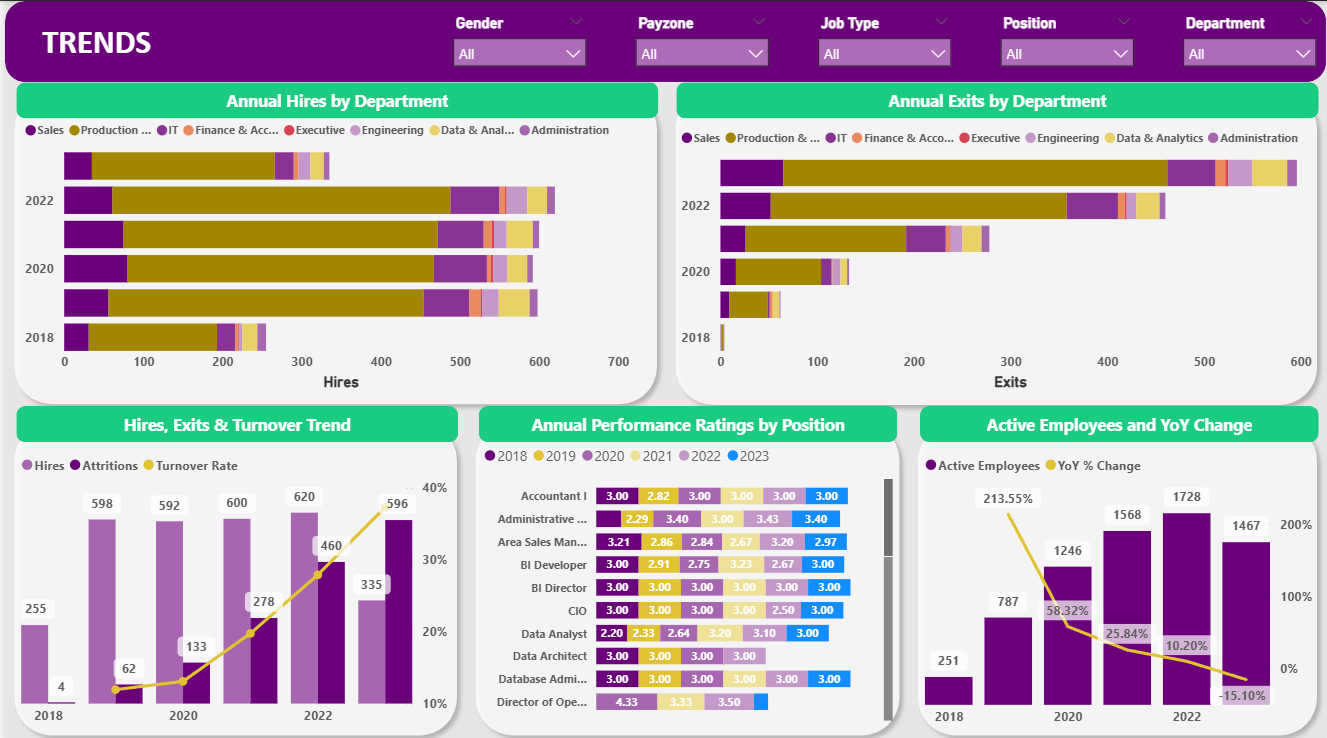

This screenshot's page, from the dashboard's own definition file:
{"tool":"powerbi","page":{"name":"Trends","canvas":[1280,720],"ordinal":2},"visuals":[{"type":"shape","box":[640.5,78.5,639.3,321.5],"z":0},{"type":"shape","box":[875.2,399.5,404.3,320.8],"z":1000},{"type":"shape","box":[0,399.5,446.7,320.8],"z":2000},{"type":"shape","box":[0,78.7,640.4,320.8],"z":3000},{"type":"lineClusteredColumnComboChart","fields":{"Category":["dim_date.Year"],"Y":["_Measures.Active Employees Rolling by Year"],"Y2":["_Measures.Active Employees YoY % Change"]},"box":[886.1,429.7,386.1,282],"z":4000},{"type":"lineClusteredColumnComboChart","fields":{"Category":["dim_date.Year"],"Y2":["_Measures.Turnover Rate by Year"],"Y":["_Measures.Hires by Year","_Measures.Exits by Year"]},"box":[10.9,429.7,423.7,280.8],"z":5000},{"type":"barChart","fields":{"Category":["dim_date.Year"],"Y":["_Measures.Hires by Year"],"Series":["silver Employees.department"]},"box":[14.5,106.5,595.6,274.8],"z":6000},{"type":"barChart","fields":{"Category":["silver Employees.exit_year"],"Y":["CountNonNull(silver Employees.employee_id)"],"Series":["silver Employees.department"]},"box":[650,113.8,621,267.5],"z":7000},{"type":"shape","box":[10.9,78.7,622,35.1],"z":8000},{"type":"shape","box":[650,78.7,622.2,35.1],"z":9000},{"type":"shape","box":[446.7,399.5,428.5,320.8],"z":10000},{"type":"barChart","fields":{"Y":["Avg(silver Employees.current_rating)"],"Series":["dim_date.Year"],"Category":["silver Employees.title"]},"box":[458.8,420,405.5,282],"z":11000},{"type":"shape","box":[886.1,392.2,386.1,35.1],"z":13000},{"type":"shape","box":[458.8,392.2,405.5,35.1],"z":14000},{"type":"shape","box":[0,0,1279.5,78.7],"z":15000},{"type":"slicer","fields":{"Values":["silver Employees.gender"]},"box":[423.2,7.3,148.9,65.4],"z":16000},{"type":"slicer","fields":{"Values":["silver Employees.payzone"]},"box":[600,7.3,148.9,65.4],"z":17000},{"type":"slicer","fields":{"Values":["silver Employees.employment_type"]},"box":[776.9,7.3,148.9,65.4],"z":18000},{"type":"slicer","fields":{"Values":["silver Employees.title"]},"box":[953.8,7.3,148.9,65.4],"z":19000},{"type":"slicer","fields":{"Values":["silver Employees.department"]},"box":[1130.6,7.3,148.9,65.4],"z":20000},{"type":"shape","box":[10.9,392,428,35.1],"z":20001}]}

Visuals, with their boxes in screenshot pixels (x1, y1, x2, y2), scaled from the page's 1280x720 canvas onto the 1327x738 screenshot:
shape: locate(664, 80, 1326, 410)
shape: locate(907, 409, 1326, 737)
shape: locate(0, 409, 463, 737)
shape: locate(0, 81, 664, 409)
lineClusteredColumnComboChart - dim_date.Year x _Measures.Active Employees Rolling by Year: locate(919, 440, 1319, 729)
lineClusteredColumnComboChart - dim_date.Year x _Measures.Turnover Rate by Year: locate(11, 440, 451, 728)
barChart - dim_date.Year x _Measures.Hires by Year: locate(15, 109, 633, 391)
barChart - silver Employees.exit_year x CountNonNull(silver Employees.employee_id): locate(674, 117, 1318, 391)
shape: locate(11, 81, 656, 117)
shape: locate(674, 81, 1319, 117)
shape: locate(463, 409, 907, 737)
barChart - Avg(silver Employees.current_rating) x dim_date.Year: locate(476, 430, 896, 720)
shape: locate(919, 402, 1319, 438)
shape: locate(476, 402, 896, 438)
shape: locate(0, 0, 1326, 81)
slicer - silver Employees.gender: locate(439, 7, 593, 75)
slicer - silver Employees.payzone: locate(622, 7, 776, 75)
slicer - silver Employees.employment_type: locate(805, 7, 960, 75)
slicer - silver Employees.title: locate(989, 7, 1143, 75)
slicer - silver Employees.department: locate(1172, 7, 1326, 75)
shape: locate(11, 402, 455, 438)
